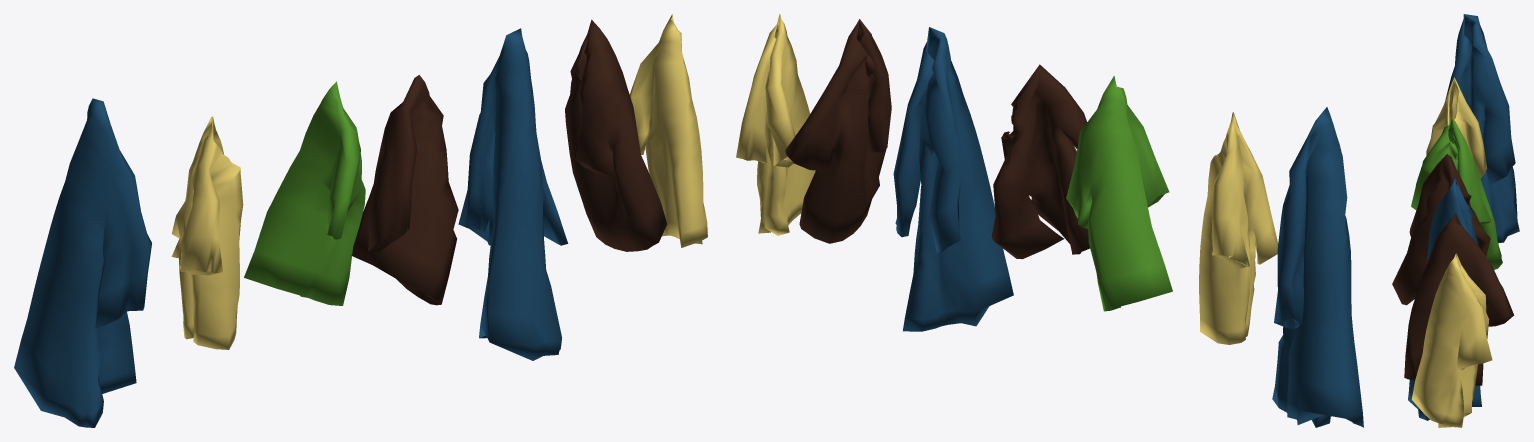
File: clothss.fbx
3 views of the same model, side by side, from view 1: azimuth 30°, elevation 25°; view 2: azimuth 150°, elevation 25°; view 3: azimuth 270°, elevation 25° (orthographic). The views are drawn at different scales.
Parts seen in each view (by area): view 1: cloth.009, cloth.005, cloth.008, cloth.006, cloth.004, cloth.007, cloth.003; view 2: cloth.005, cloth.009, cloth.008, cloth.004, cloth.006, cloth.007, cloth.003; view 3: cloth.003, cloth.009, cloth.004, cloth.006, cloth.008, cloth.007, cloth.005.
Part boxes in pixels (x1=…): cloth.009: x1=14, y1=98, x2=151, y2=427; cloth.005: x1=458, y1=28, x2=568, y2=360; cloth.008: x1=244, y1=81, x2=365, y2=305; cloth.006: x1=351, y1=75, x2=458, y2=305; cloth.004: x1=565, y1=19, x2=666, y2=251; cloth.007: x1=171, y1=116, x2=243, y2=349; cloth.003: x1=629, y1=14, x2=707, y2=247; cloth.005: x1=893, y1=27, x2=1013, y2=331; cloth.009: x1=1272, y1=107, x2=1363, y2=427; cloth.008: x1=1066, y1=76, x2=1172, y2=311; cloth.004: x1=785, y1=19, x2=891, y2=243; cloth.006: x1=991, y1=64, x2=1089, y2=259; cloth.007: x1=1199, y1=112, x2=1278, y2=344; cloth.003: x1=736, y1=14, x2=815, y2=235; cloth.003: x1=1411, y1=253, x2=1492, y2=427; cloth.009: x1=1445, y1=14, x2=1519, y2=243; cloth.004: x1=1404, y1=213, x2=1513, y2=385; cloth.006: x1=1392, y1=154, x2=1490, y2=305; cloth.008: x1=1411, y1=117, x2=1502, y2=269; cloth.007: x1=1426, y1=77, x2=1487, y2=177; cloth.005: x1=1408, y1=178, x2=1481, y2=420.
Size of the model in its own units: 402 by 201 by 92.94.
